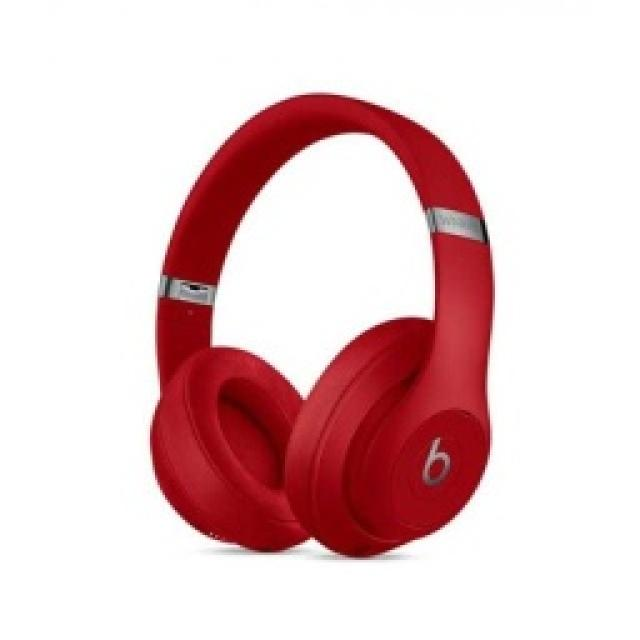headphones: (147, 90, 495, 558)
